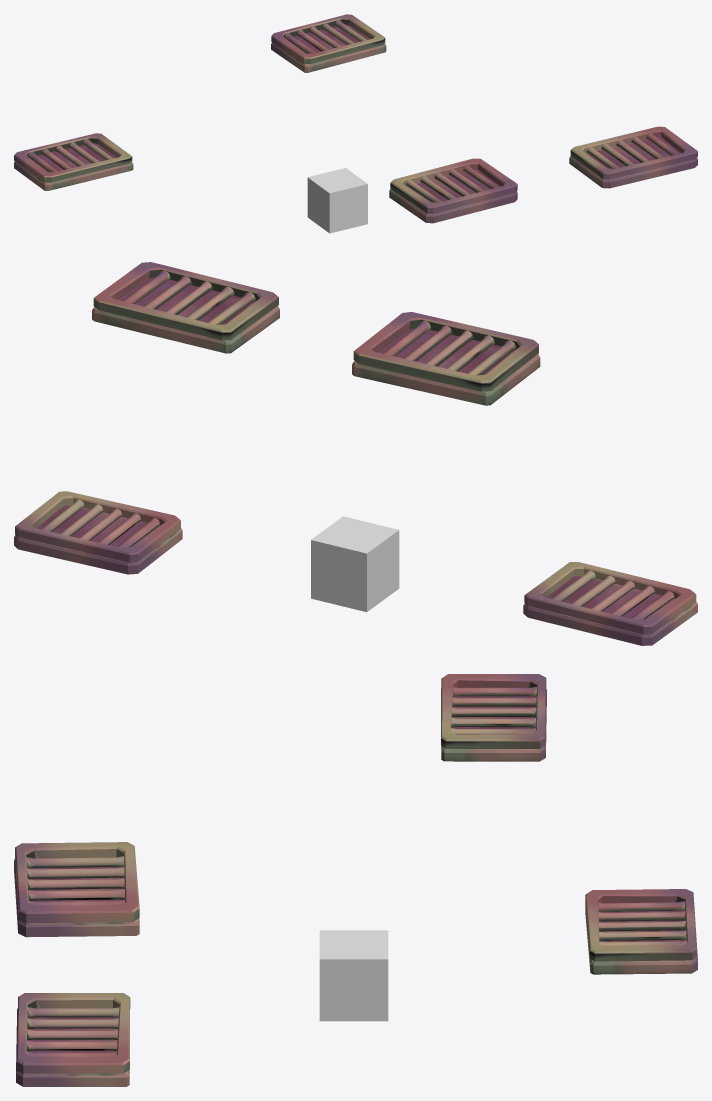
The model's file is battlescence-4-floor003.fbx.
3 renders of one model, top to bottom at view 1: azimuth 30°, elevation 25°; view 2: azimuth 150°, elevation 25°; view 3: azimuth 270°, elevation 25°, orthographic. The views are drawn at different scales.
Parts seen in each view (by area): view 1: Cylinder.019, Cylinder.017, Cylinder.020, Cylinder.016, battlescence-4-floor003; view 2: Cylinder.019, Cylinder.017, Cylinder.020, Cylinder.016, battlescence-4-floor003; view 3: Cylinder.019, Cylinder.017, Cylinder.016, Cylinder.020, battlescence-4-floor003.
Part boxes in pixels (x1,y1,x2,y2): Cylinder.019: [389, 158, 517, 223]; Cylinder.017: [569, 126, 697, 188]; Cylinder.020: [14, 133, 133, 190]; Cylinder.016: [271, 14, 386, 72]; battlescence-4-floor003: [307, 168, 367, 233]; Cylinder.019: [352, 312, 540, 405]; Cylinder.017: [92, 262, 279, 353]; Cylinder.020: [523, 562, 697, 645]; Cylinder.016: [14, 491, 182, 574]; battlescence-4-floor003: [311, 516, 399, 612]; Cylinder.019: [14, 842, 139, 937]; Cylinder.017: [16, 993, 130, 1086]; Cylinder.016: [585, 889, 697, 974]; Cylinder.020: [441, 674, 546, 761]; battlescence-4-floor003: [319, 930, 388, 1021].
Bounding box in the file's own units: 1668 × 299 × 1233.
